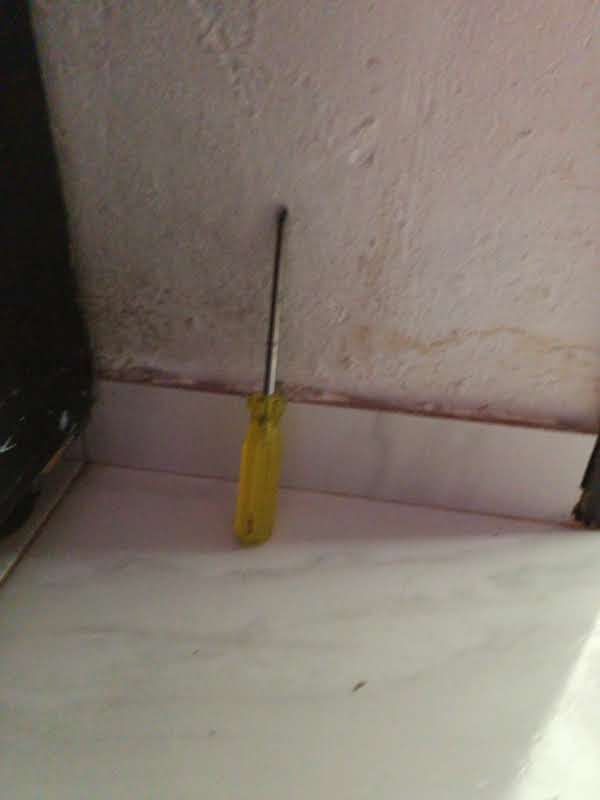Destornillador: (234, 206, 288, 545)
